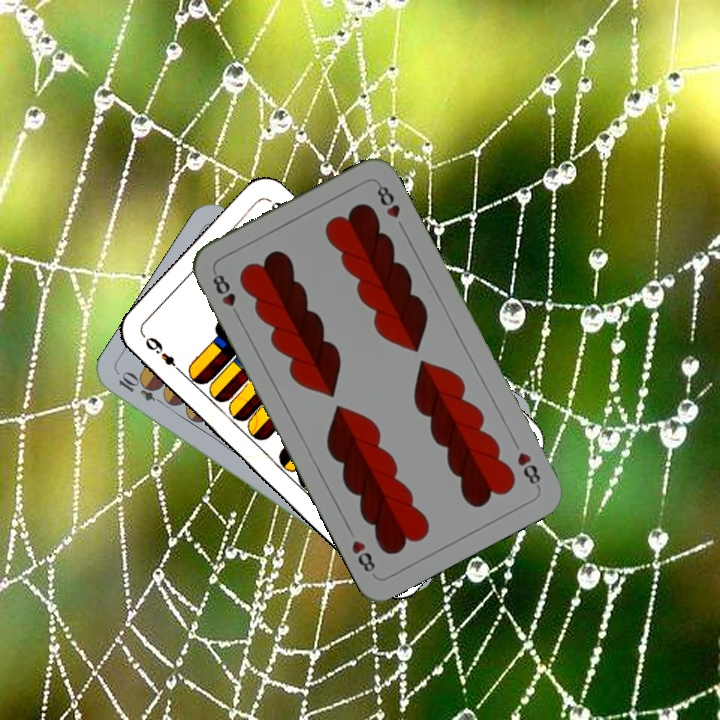E10: (114, 369, 170, 409)
E9: (140, 333, 186, 377)
H8: (208, 267, 243, 321), (513, 448, 543, 491)
